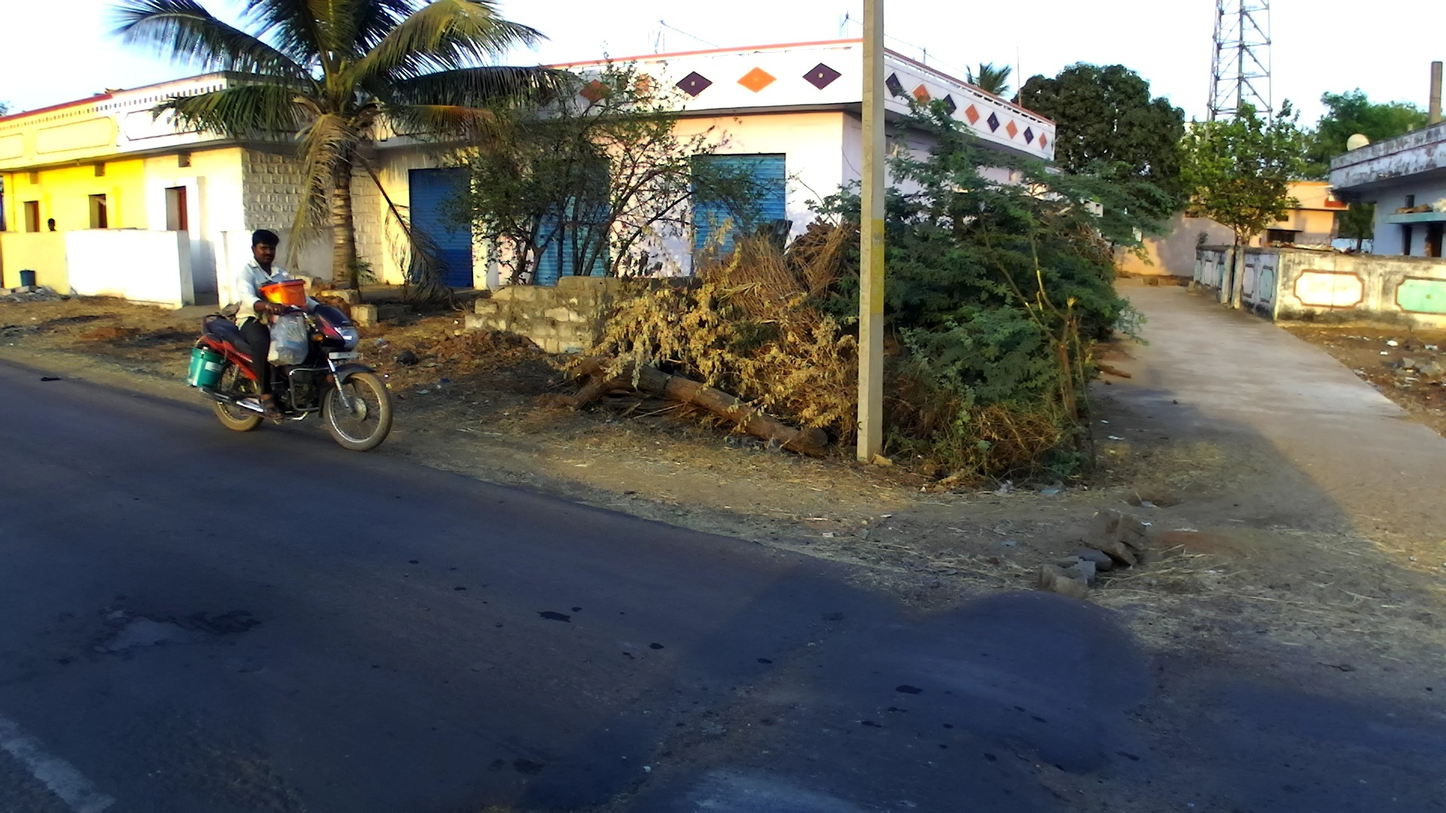motorcycle: (189, 285, 393, 455)
rider: (235, 225, 329, 425)
